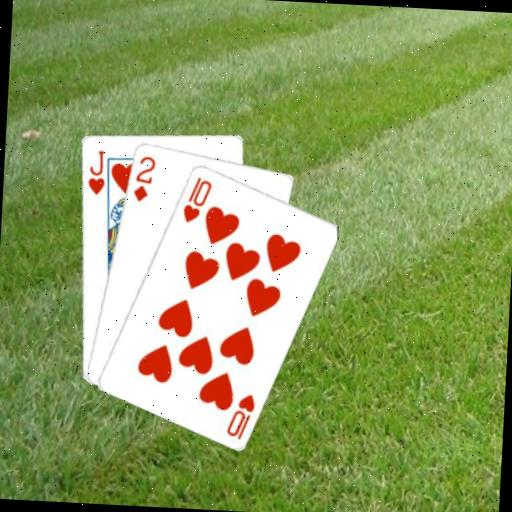10H: (179, 174, 214, 226), (222, 389, 257, 441)
2D: (130, 152, 158, 204)
JH: (84, 147, 107, 197)
